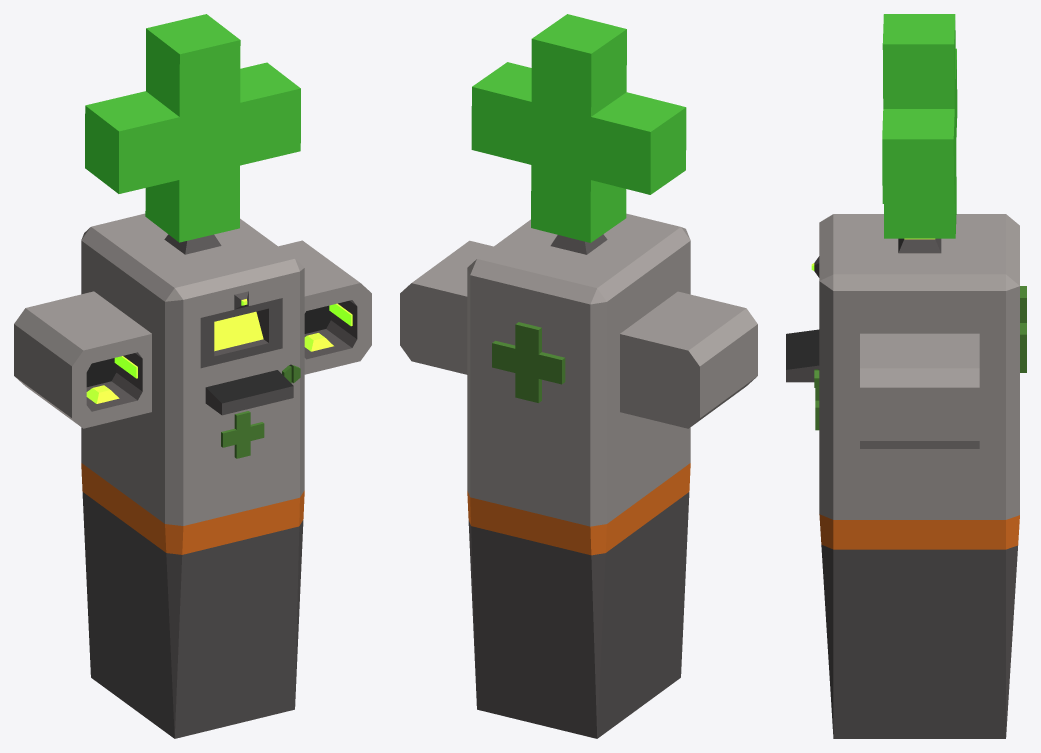
The model's file is scifi_scifi-medical-charger.fbx.
3 renders of one model, left to right at view 1: azimuth 30°, elevation 25°; view 2: azimuth 150°, elevation 25°; view 3: azimuth 270°, elevation 25°, orthographic. The views are drawn at different scales.
Visible parts, largest first — view 1: scifi_scifi_medical_charger; view 2: scifi_scifi_medical_charger; view 3: scifi_scifi_medical_charger.
Boxes of the visible parts, x1=… form: scifi_scifi_medical_charger: x1=14, y1=14, x2=371, y2=738; scifi_scifi_medical_charger: x1=400, y1=14, x2=757, y2=738; scifi_scifi_medical_charger: x1=786, y1=14, x2=1026, y2=738.
Bounding box in the file's own units: 95.11 × 200 × 64.22.
